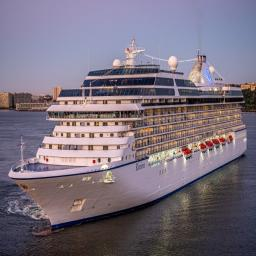cruises: (9, 38, 251, 235)
